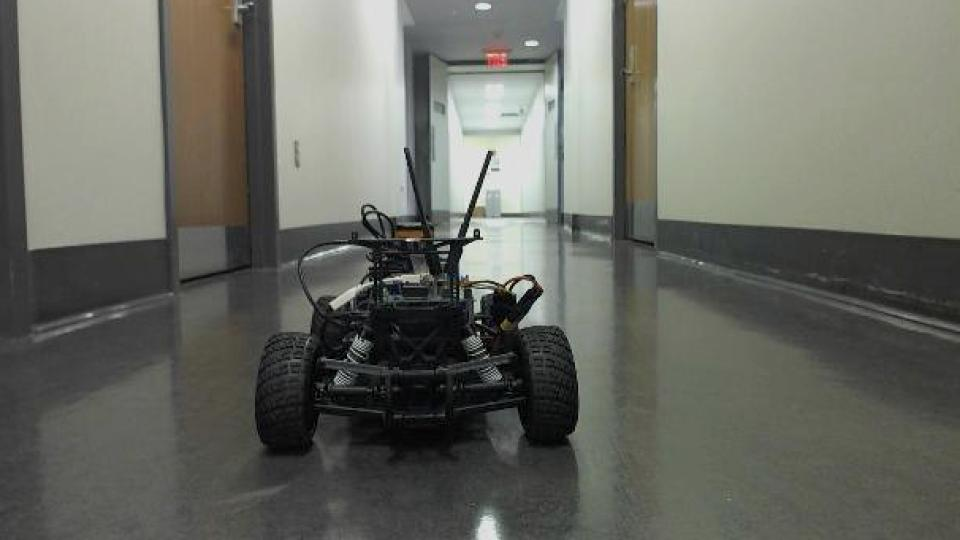car: (251, 144, 582, 456)
